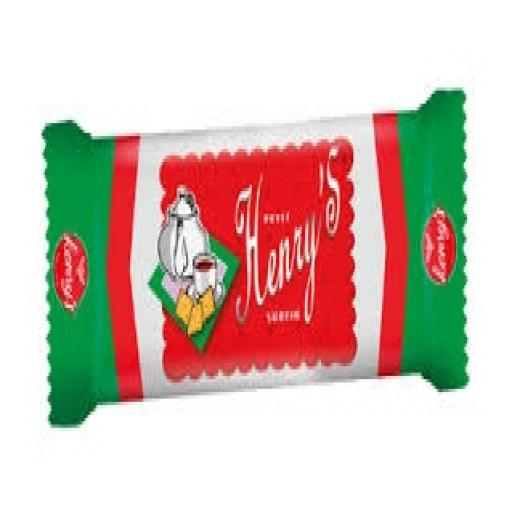golden: (40, 111, 507, 457)
